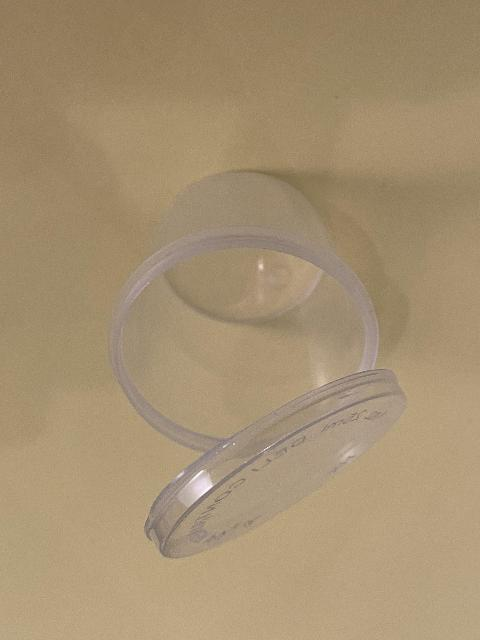plasticcontainer: (104, 166, 408, 562)
